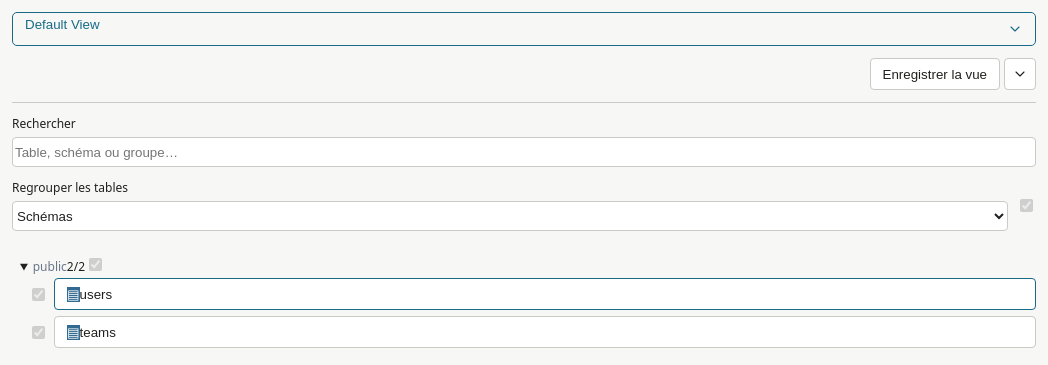
Test case: ViewInspector › guards read-only edits
Click the button with aria-label "Choisir une vue". click: (62, 24)
box: [13, 13, 1035, 45]
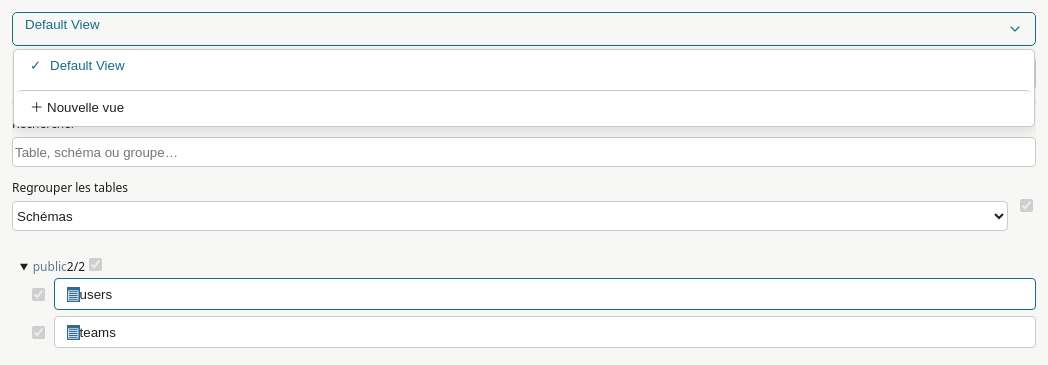
Result: the button "＋ Nouvelle vue" is disabled at [18, 90, 1030, 122]
